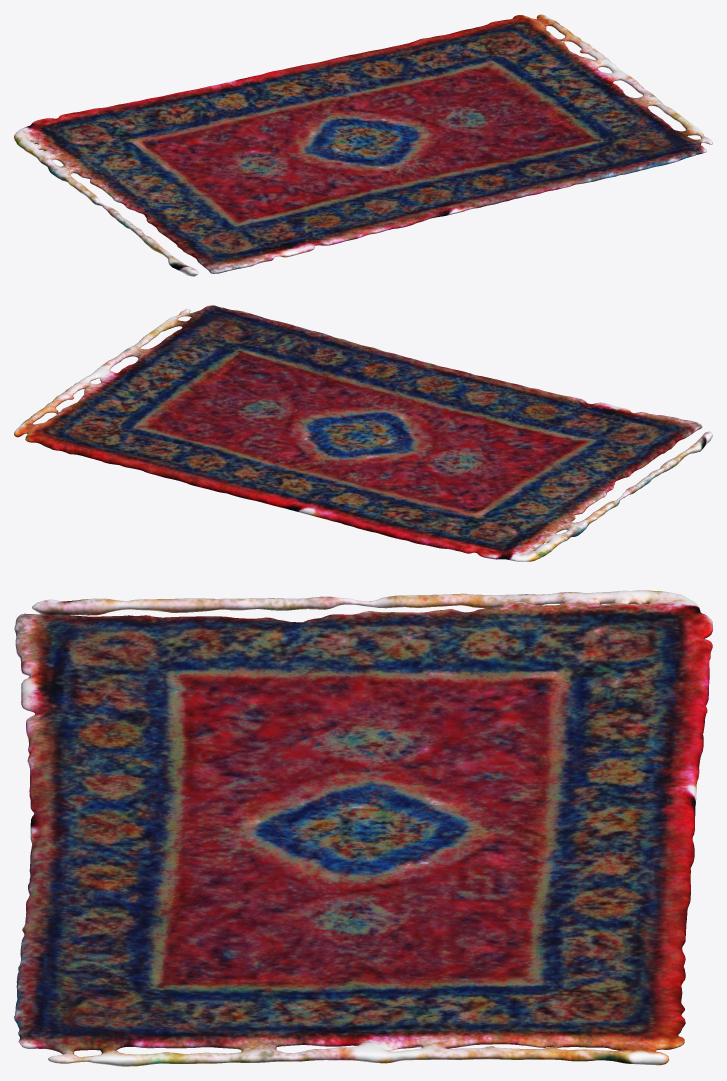
The model's file is rug.glb.
The picture shows the model from 3 angles, top to bottom: view 1: azimuth 30°, elevation 25°; view 2: azimuth 150°, elevation 25°; view 3: azimuth 270°, elevation 25°; orthographic projection. The views are drawn at different scales.
Visible parts, largest first — view 1: geometry_0; view 2: geometry_0; view 3: geometry_0.
Part boxes in pixels (bbox=[...]): geometry_0: bbox=[14, 14, 712, 276]; geometry_0: bbox=[14, 305, 712, 561]; geometry_0: bbox=[14, 590, 712, 1066].
Size of the model in its own units: 0.5339 by 0.016 by 0.3388.
1 material, 1 textured.
